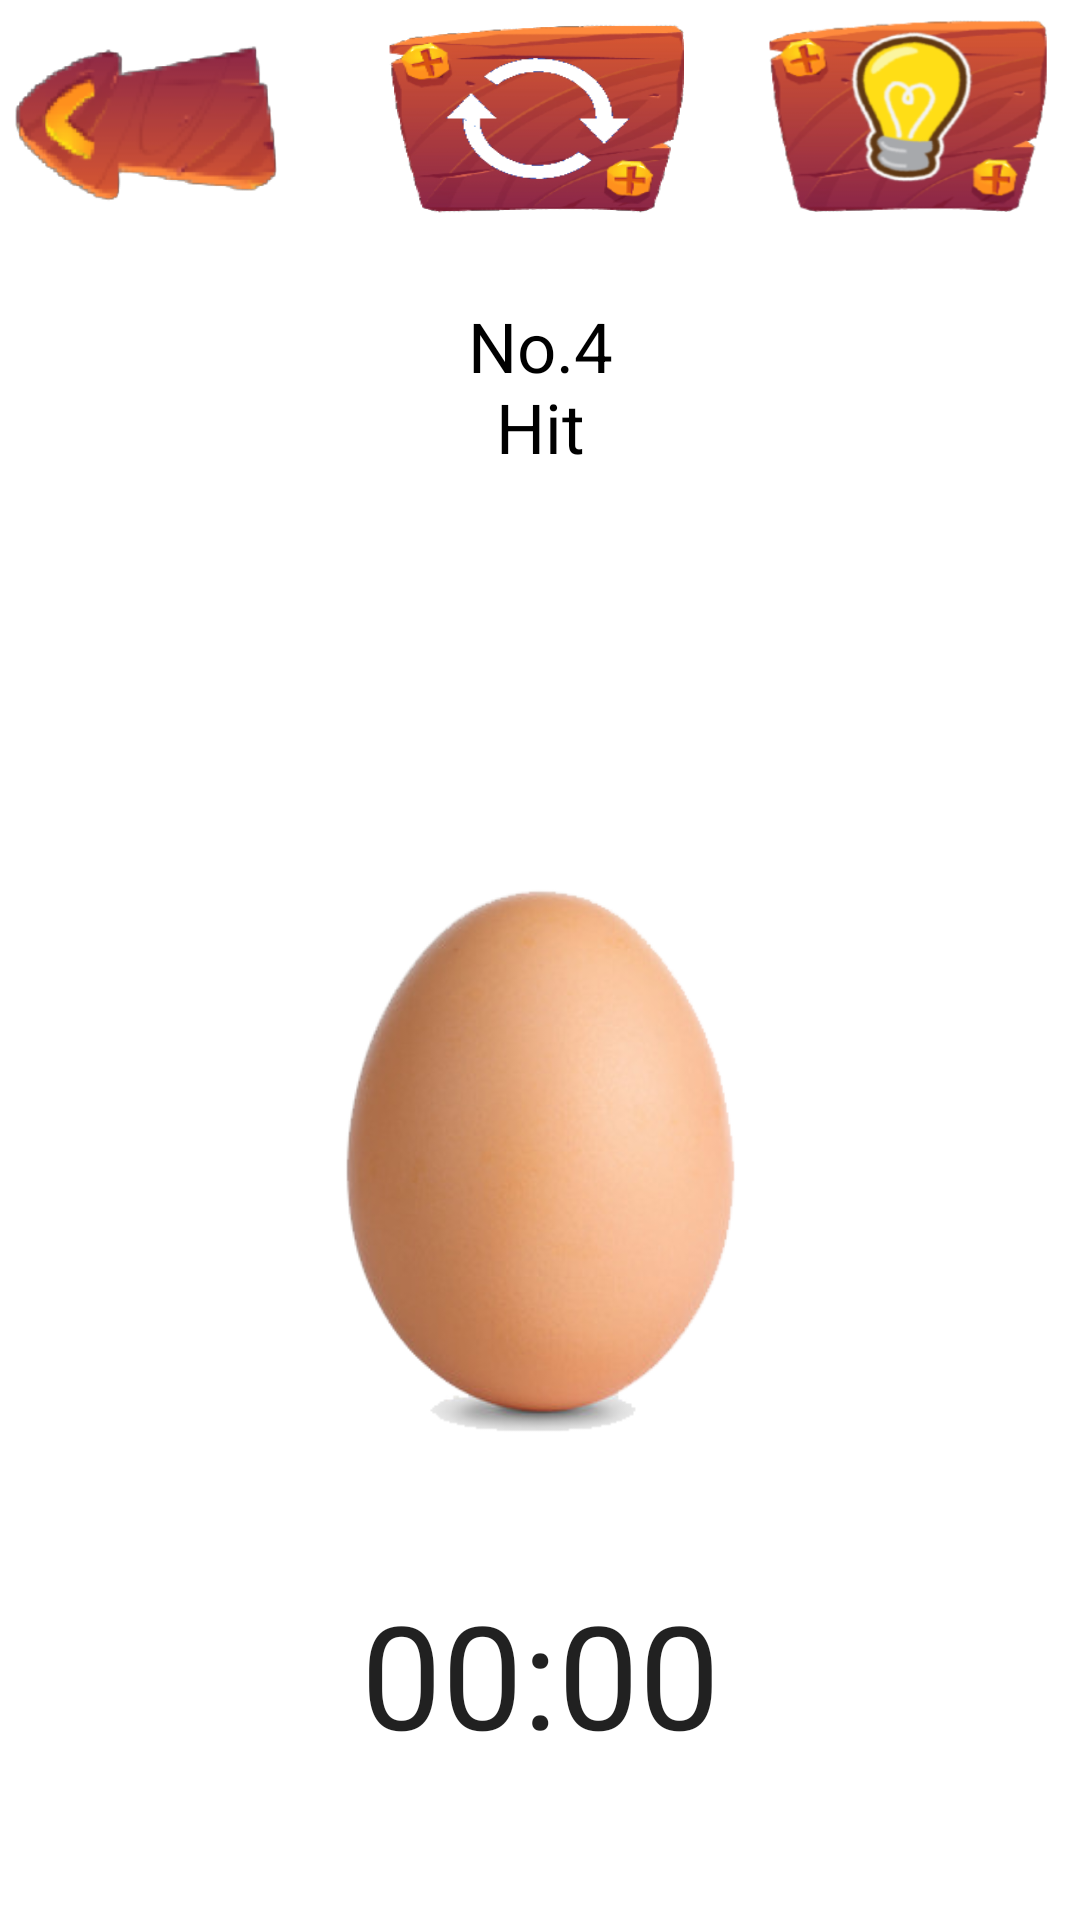

Icon click points for this 1080px×1920px phone screenshot, format [x,y]:
hint: [908,116]
restart: [536,119]
